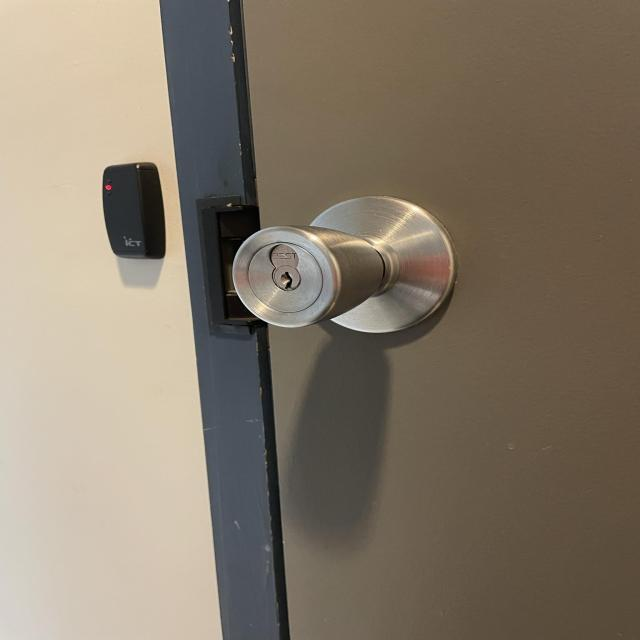door-knob: (233, 196, 455, 332)
